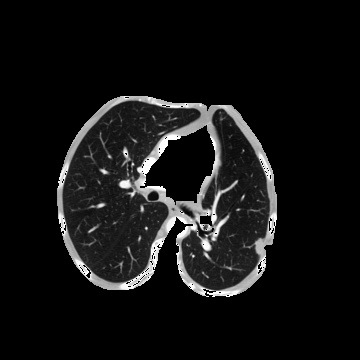PN: (253, 240, 265, 252)
